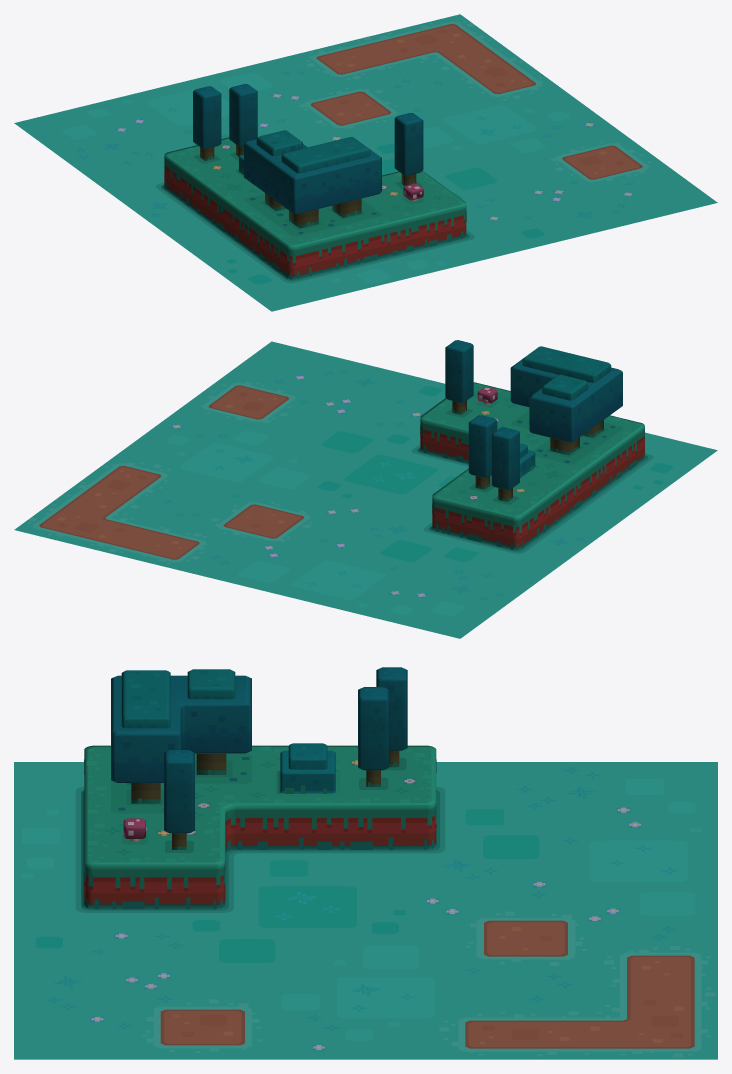
The model's file is C_forest1_05.fbx.
The picture shows the model from 3 angles, top to bottom: view 1: azimuth 30°, elevation 25°; view 2: azimuth 150°, elevation 25°; view 3: azimuth 270°, elevation 25°; orthographic projection. The views are drawn at different scales.
Visible parts, largest first — view 1: C_forest1_05; view 2: C_forest1_05; view 3: C_forest1_05.
Boxes of the visible parts, x1,y1,x2,y2 form: C_forest1_05: [14, 14, 717, 311]; C_forest1_05: [14, 340, 717, 638]; C_forest1_05: [14, 667, 717, 1059].
Size of the model in its own units: 50 by 10.9 by 50.
